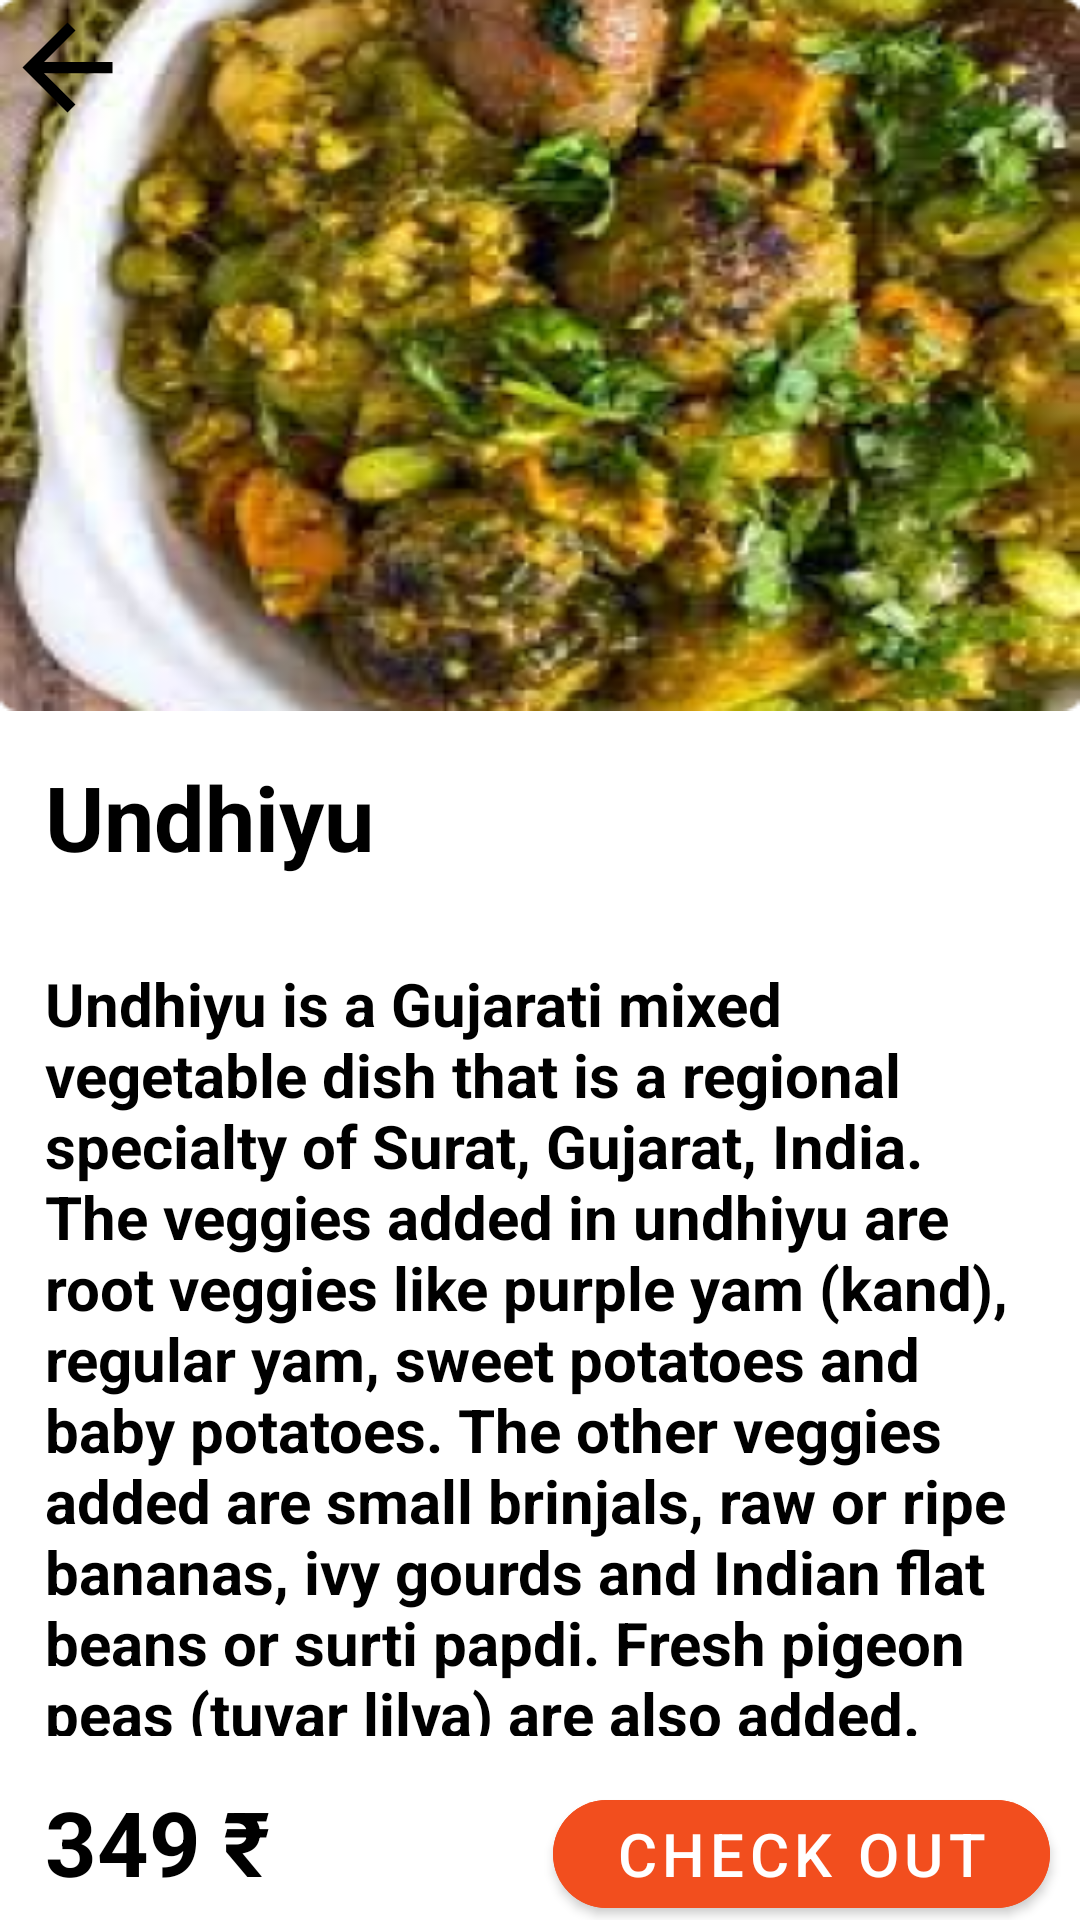

Named icons in this screenshot (1080px×1920px) and their centers, point (x, y):
back: point (67, 67)
